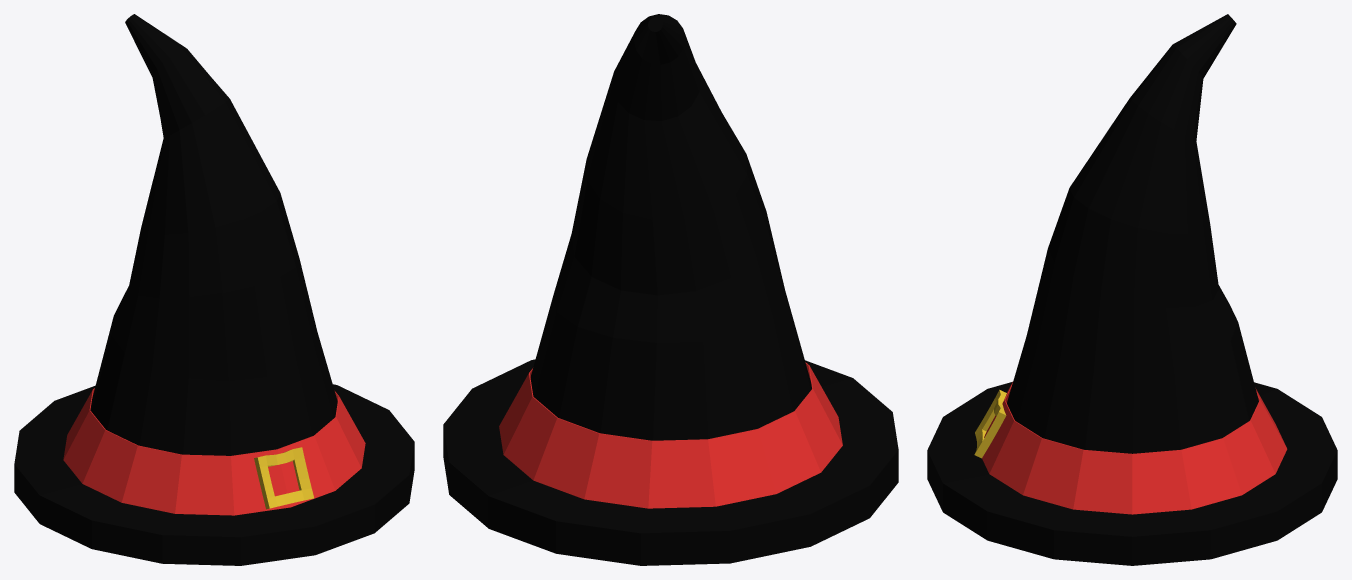
Rendered from LowPoly_WitchHat02.fbx.
3 renders of one model, left to right at view 1: azimuth 30°, elevation 25°; view 2: azimuth 150°, elevation 25°; view 3: azimuth 270°, elevation 25°, orthographic. The views are drawn at different scales.
Parts seen in each view (by area): view 1: Hat, Belt, Clasp; view 2: Hat, Belt; view 3: Hat, Belt, Clasp.
Boxes of the visible parts, bbox=[...] form: Hat: bbox=[14, 14, 414, 565]; Belt: bbox=[63, 388, 365, 515]; Clasp: bbox=[254, 447, 313, 509]; Hat: bbox=[443, 14, 898, 565]; Belt: bbox=[499, 362, 842, 508]; Hat: bbox=[927, 14, 1337, 565]; Belt: bbox=[982, 382, 1287, 514]; Clasp: bbox=[974, 389, 1006, 458].
Bounding box in the file's own units: 0.5 × 0.6055 × 0.5.
